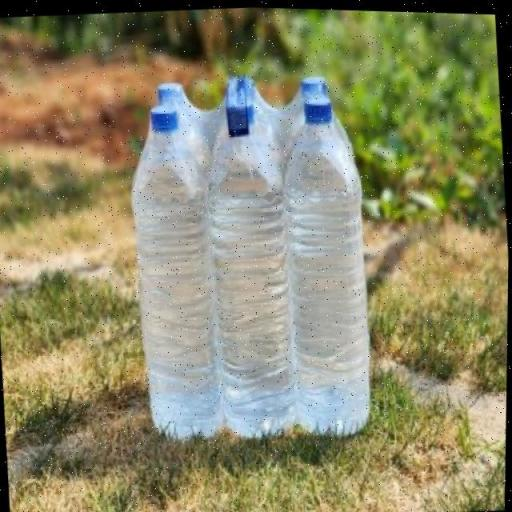plastic: (122, 100, 231, 441), (204, 96, 308, 438), (282, 92, 378, 436)
